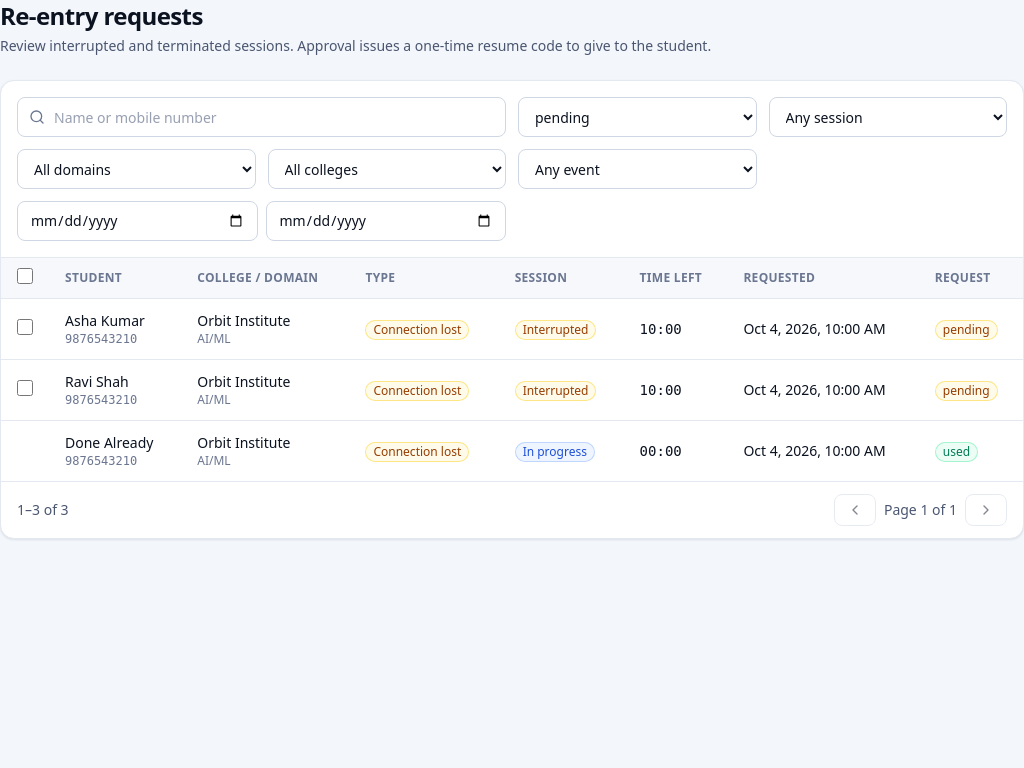
Test: ReentryPage bulk approval › approves the selected pending requests and lists every one-time code
This screenshot has width=1024, height=768.
Click the checkbox named "Select all pending requests on this page". click: (25, 276)
box: [17,268,33,284]
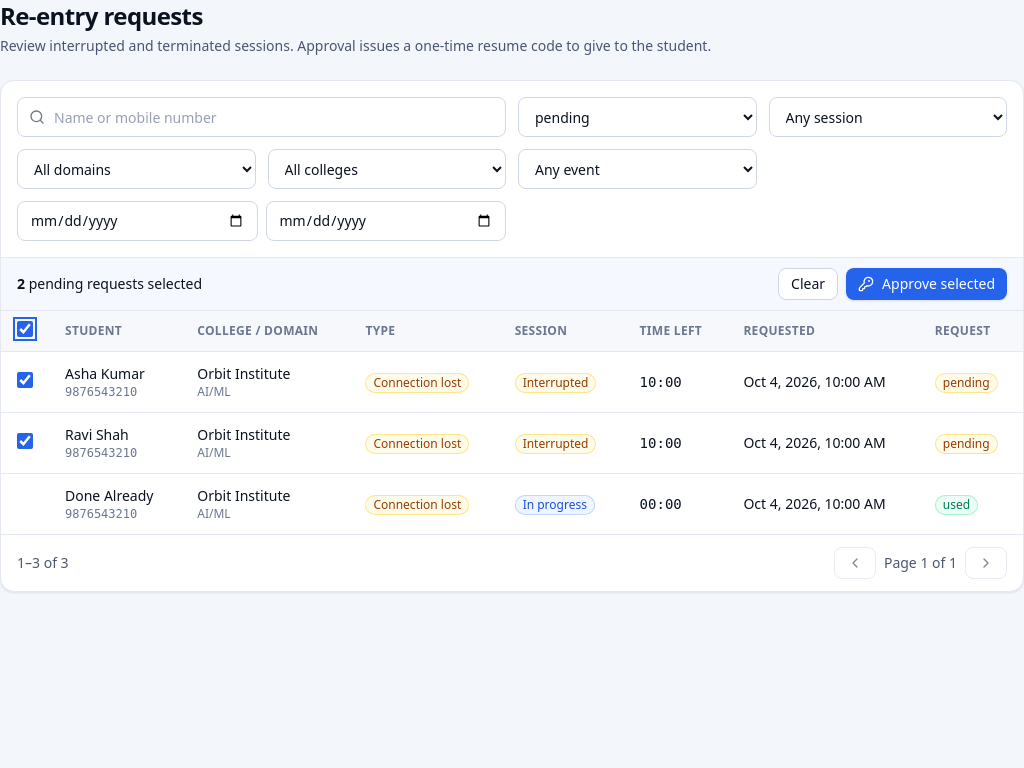
expect the element named "Bulk actions" shows "2 pending requests selected": met, box [1,258,1023,311]
Click the button "Approve selected". click: (927, 284)
box: [846,268,1007,300]
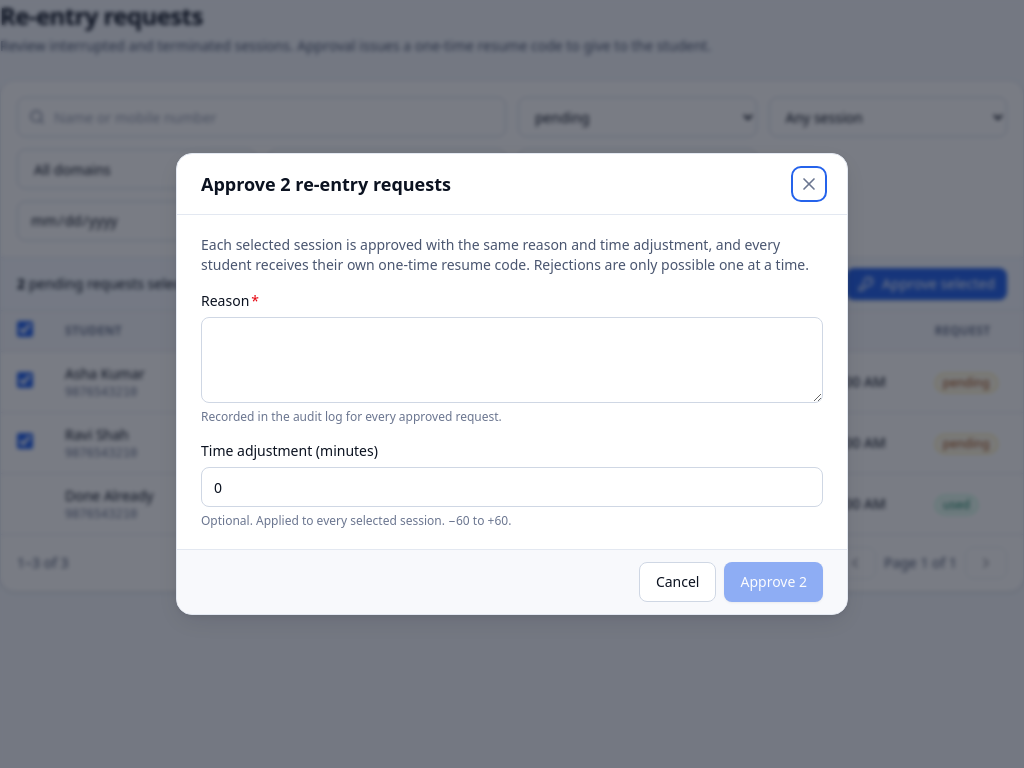
expect the button "Approve 2" is disabled: met, box [724,562,823,602]
Type "Lab 3 Wi-Fi outage" into the text box labelled "Reason*". click: (512, 360)
box: [201,317,823,403]
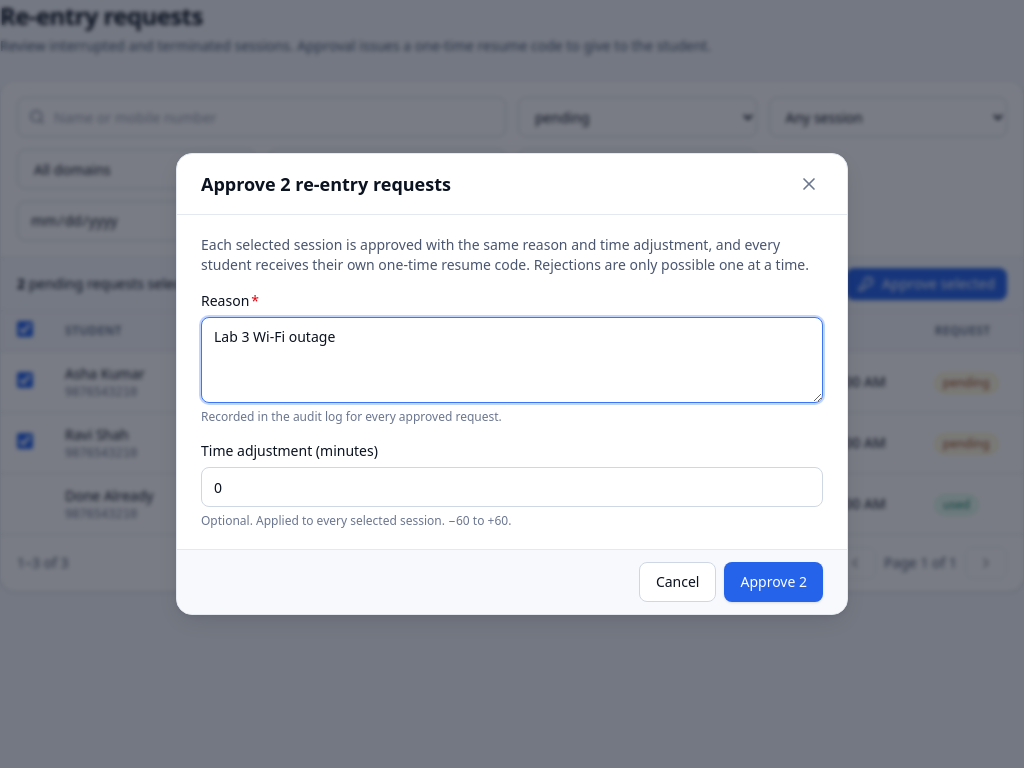
Click the button "Approve 2". click: (774, 582)
box: [724,562,823,602]
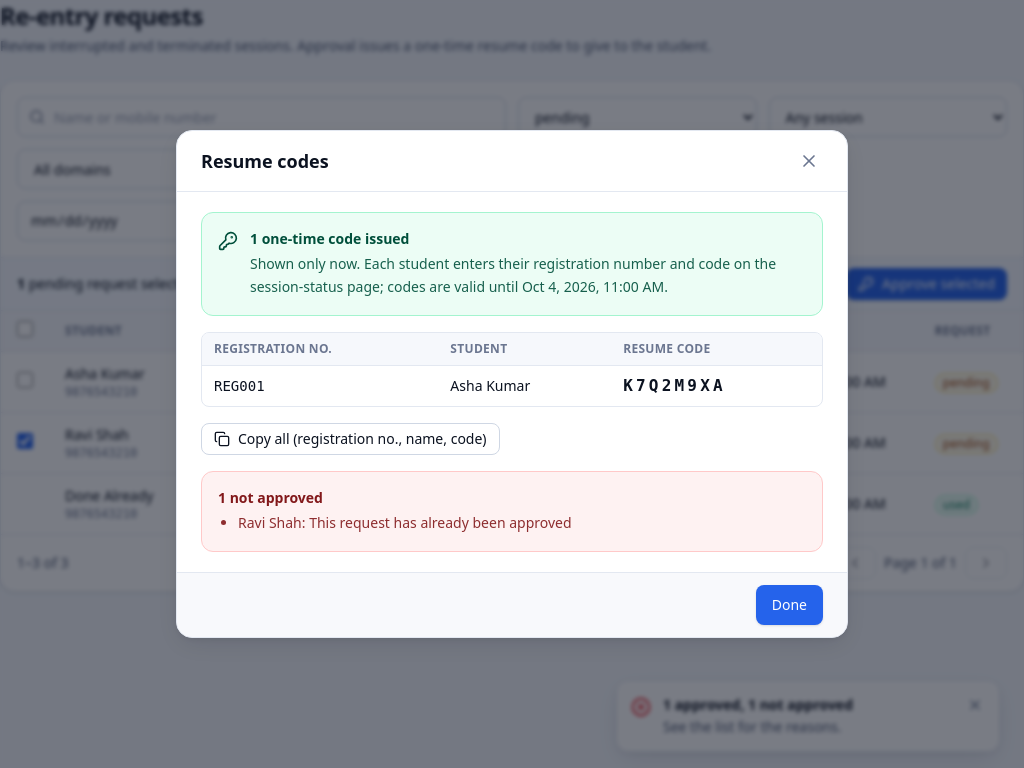
expect the text "K7Q2M9XA" is shown: met, box [611,365,822,406]
expect the text "REG001" is shown: met, box [202,365,438,406]
expect the list item "Ravi Shah: This request has already been approved" is shown: met, box [238,512,572,535]
